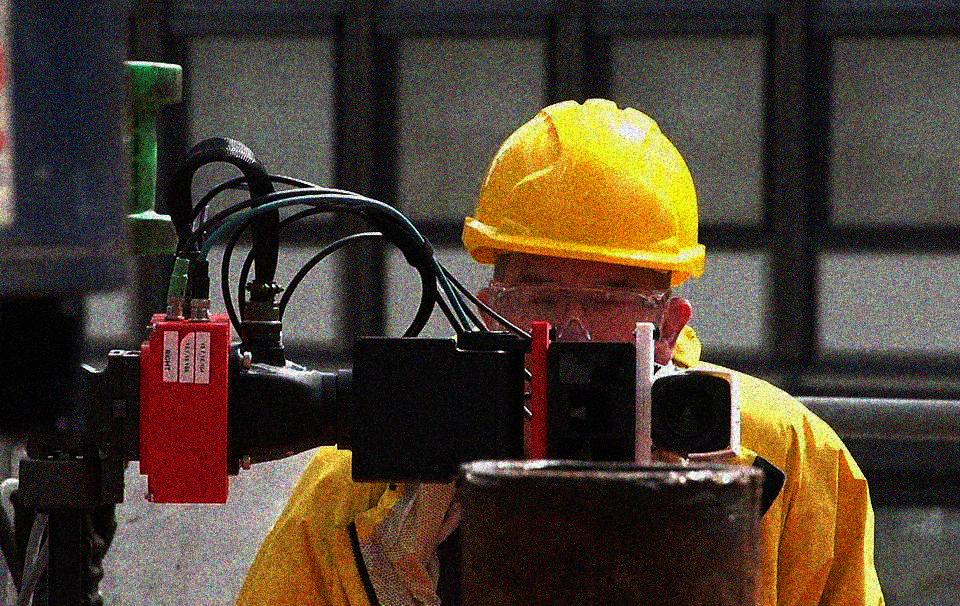helmet: (452, 97, 702, 362)
